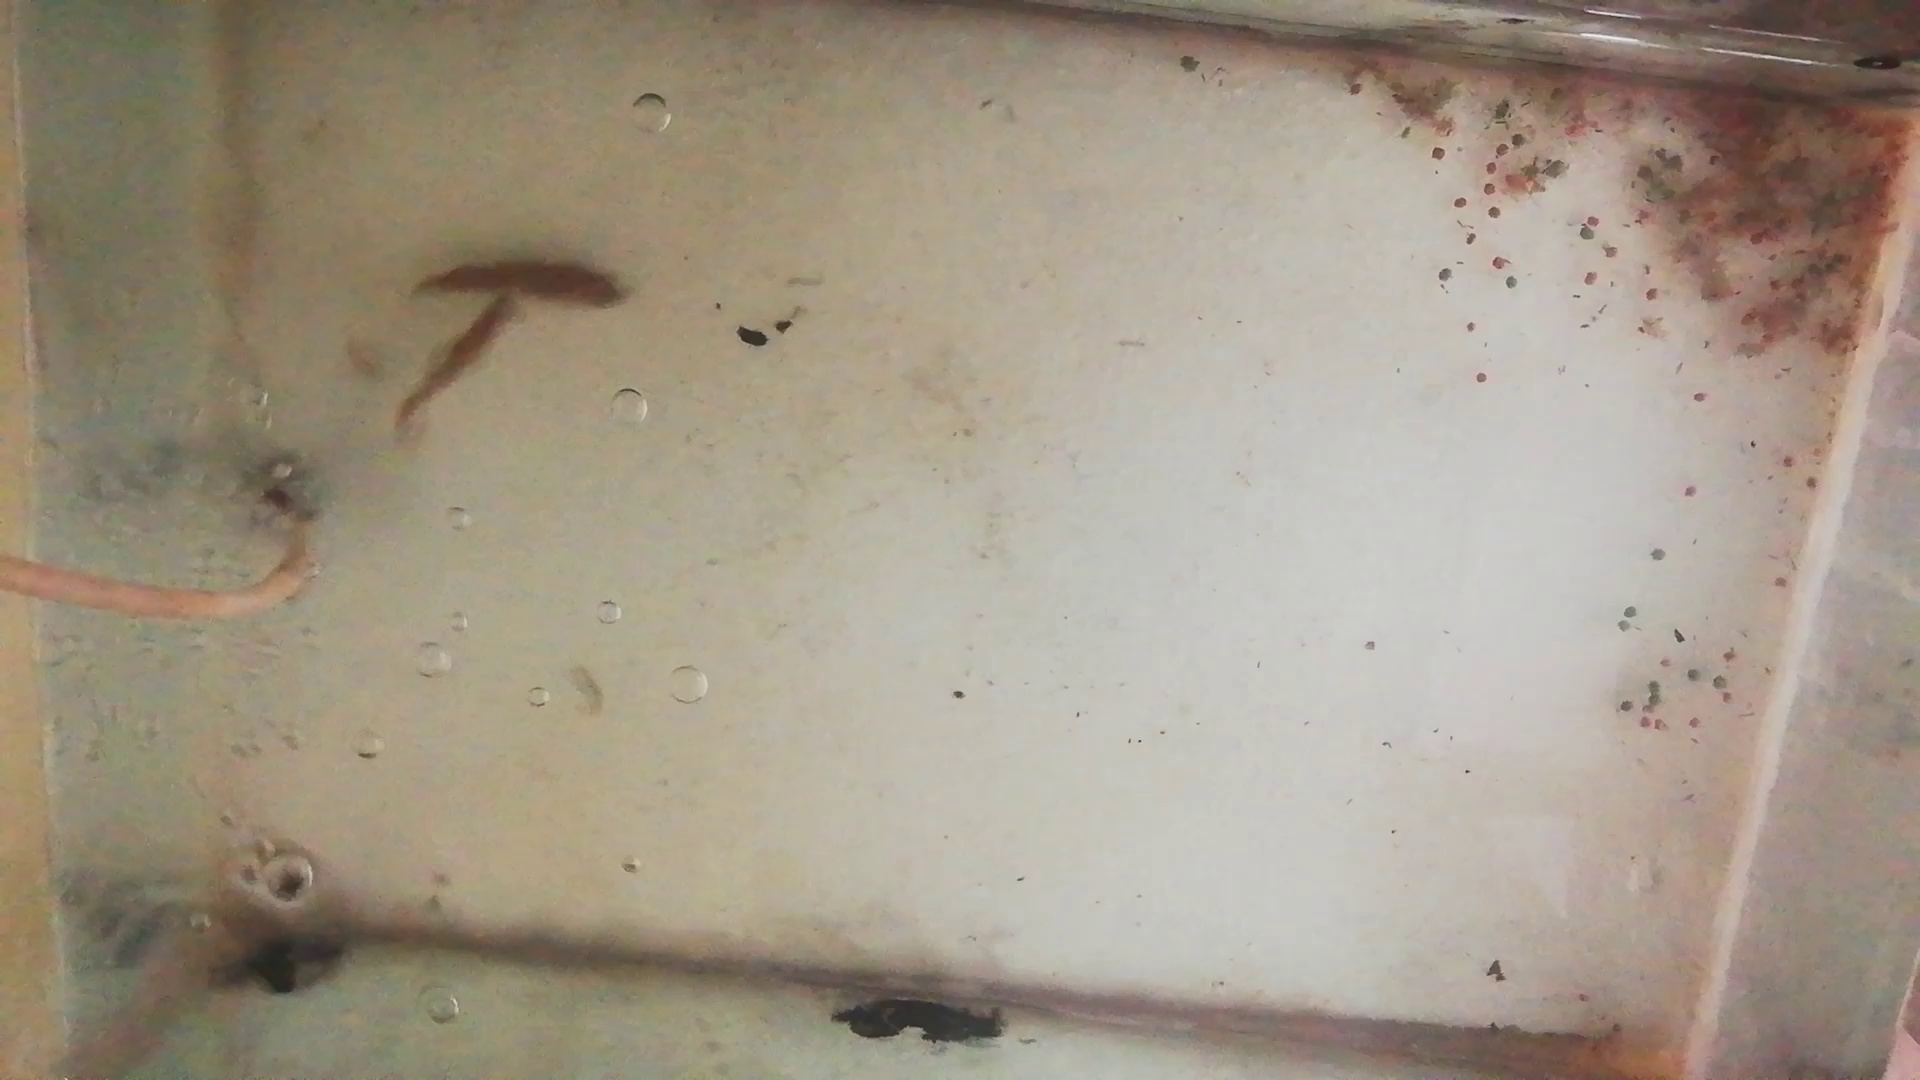fish: (396, 289, 522, 419), (419, 257, 630, 311)
